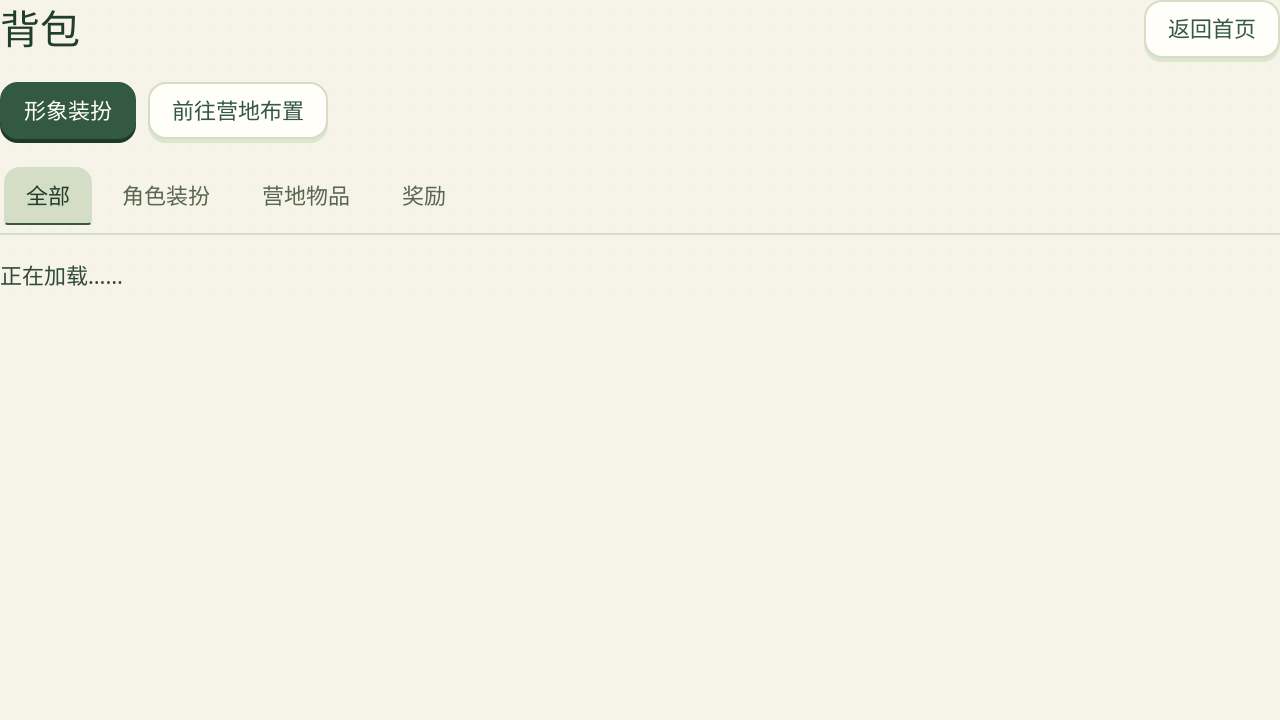
背包分类与奖励 › 兑现成功后留在背包原分类，刷新失败只重试读取
Click the tab "奖励" at (424, 196), box [380, 167, 468, 225]
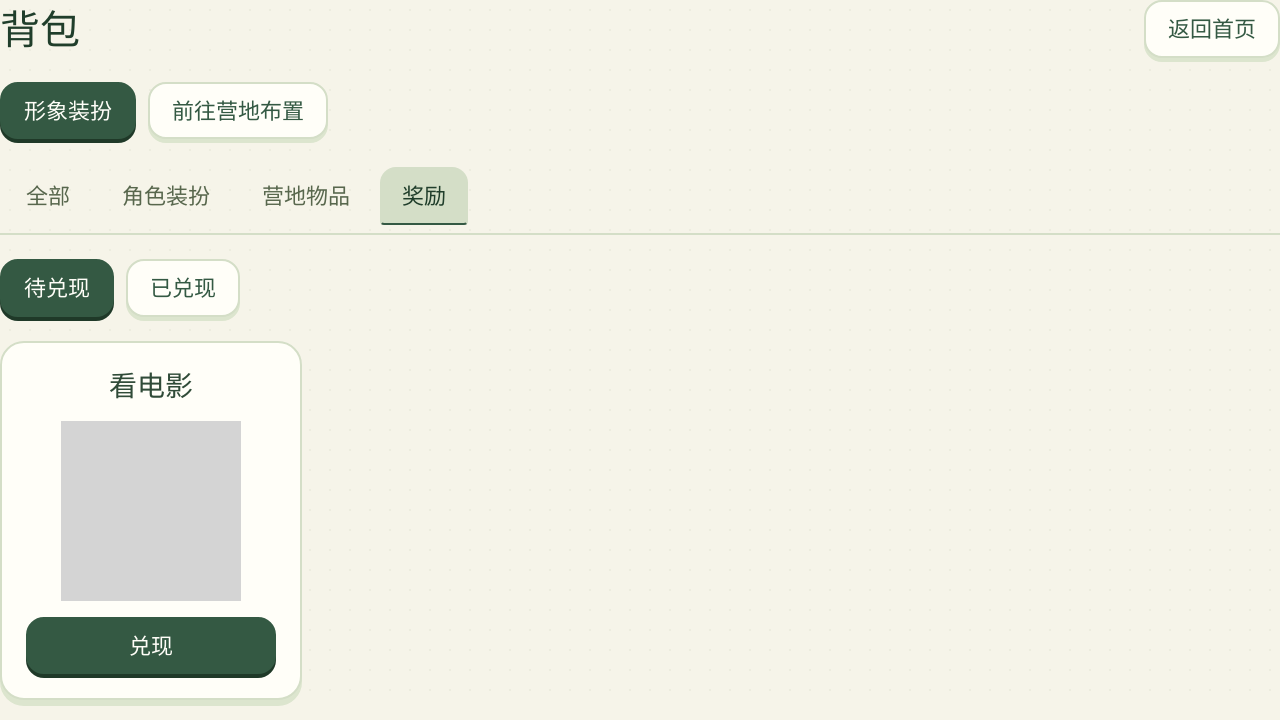
Click the button "兑现" at (151, 645), box [26, 616, 276, 674]
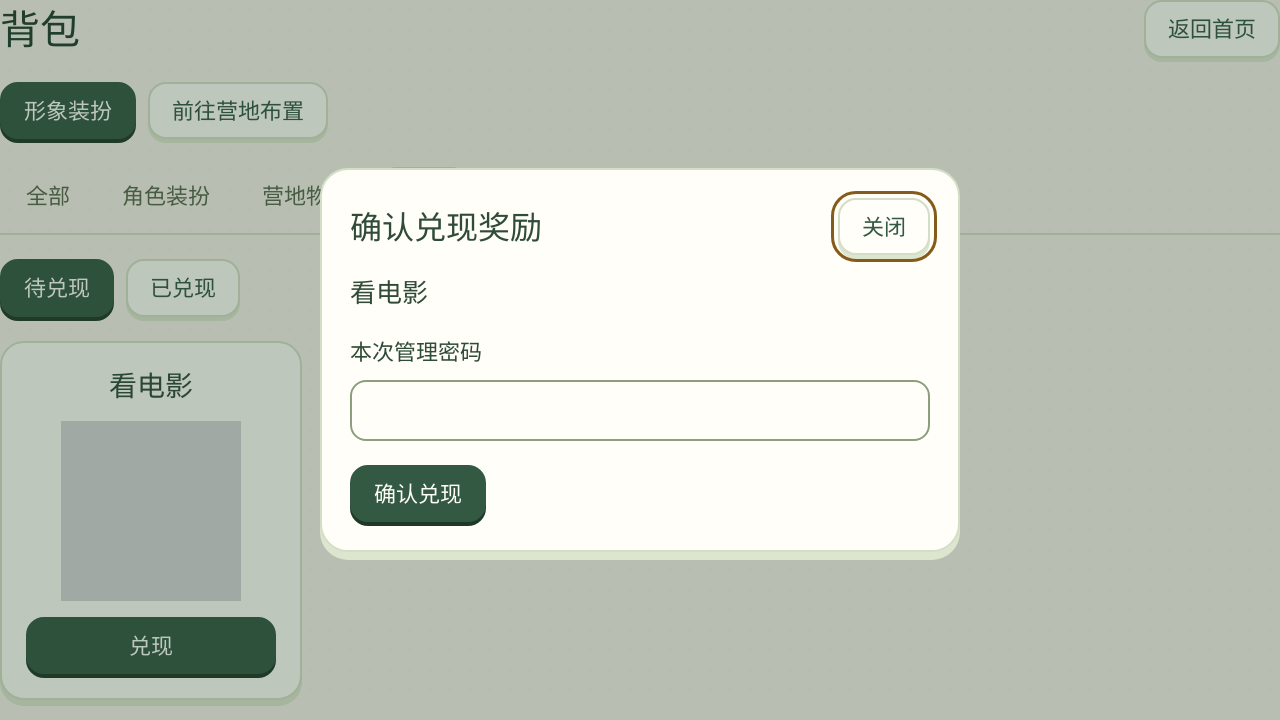
Type "secret" into the password field labelled "本次管理密码" at (640, 410), box [350, 380, 930, 440]
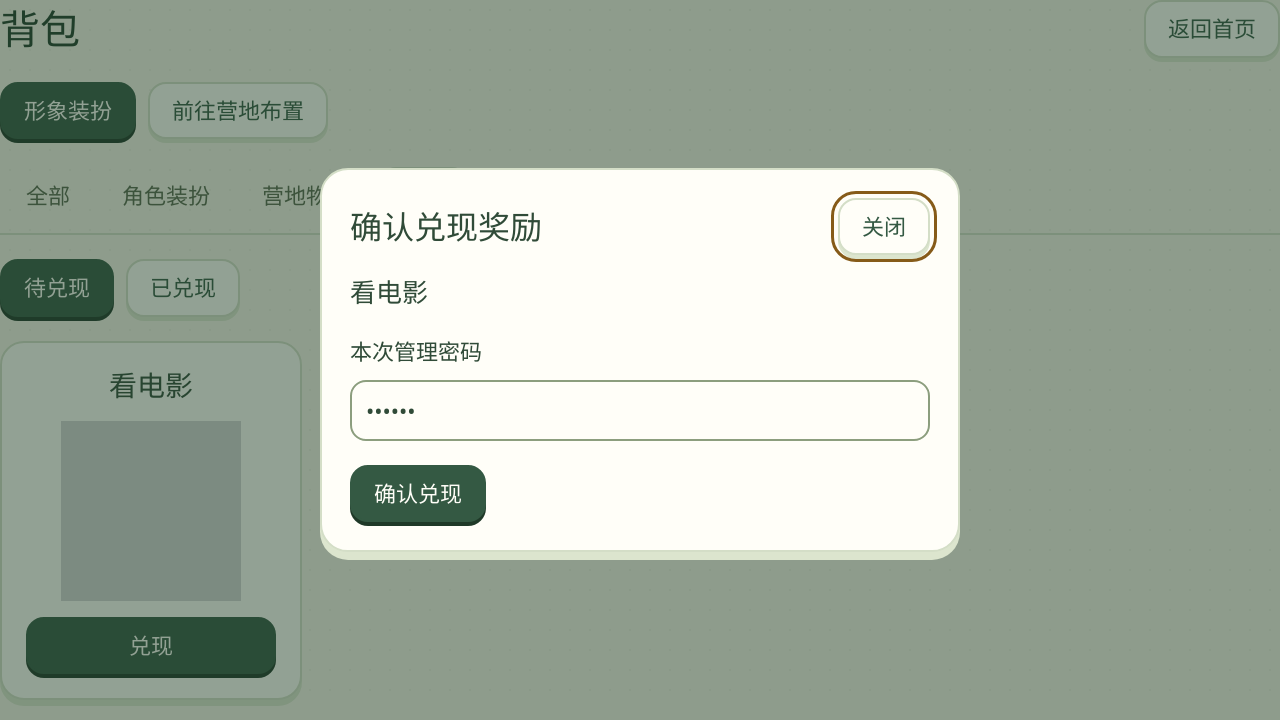
Click the button "确认兑现" at (418, 493), box [350, 464, 486, 522]
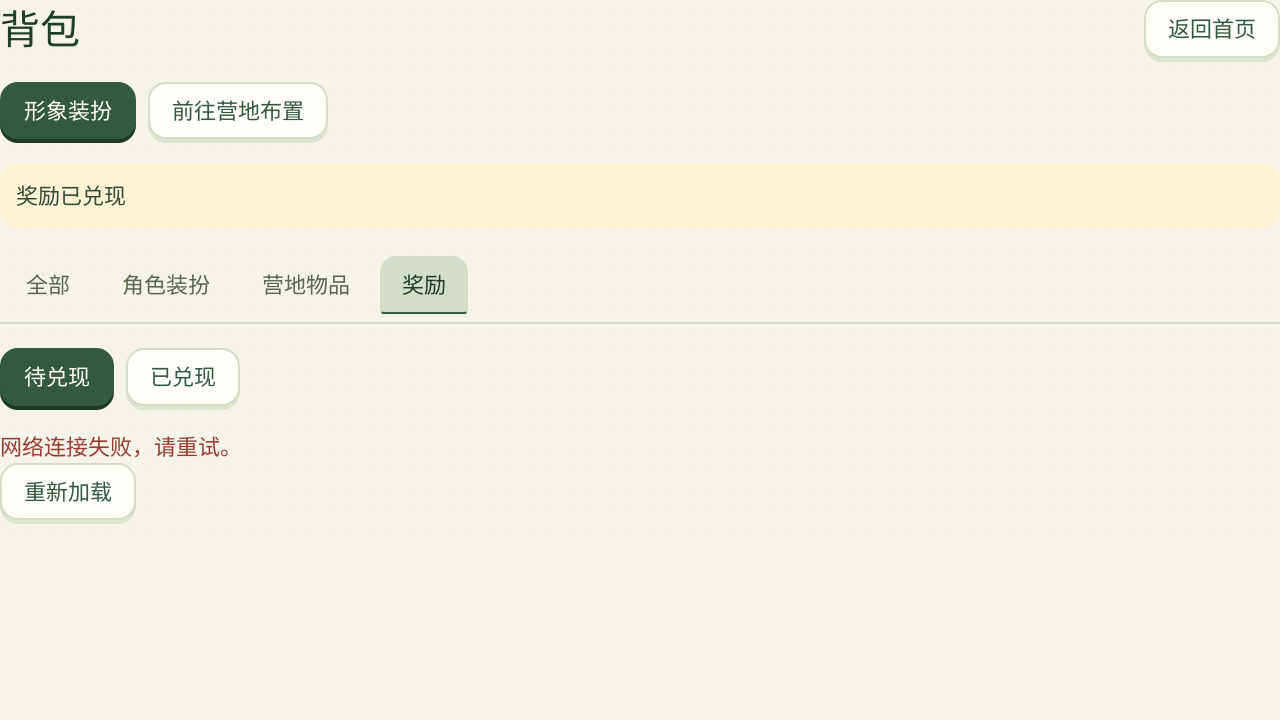
Expected: the text "奖励已兑现" is shown, [0, 163, 1279, 228]
Click the button "重新加载" at (68, 492), box [0, 463, 136, 520]
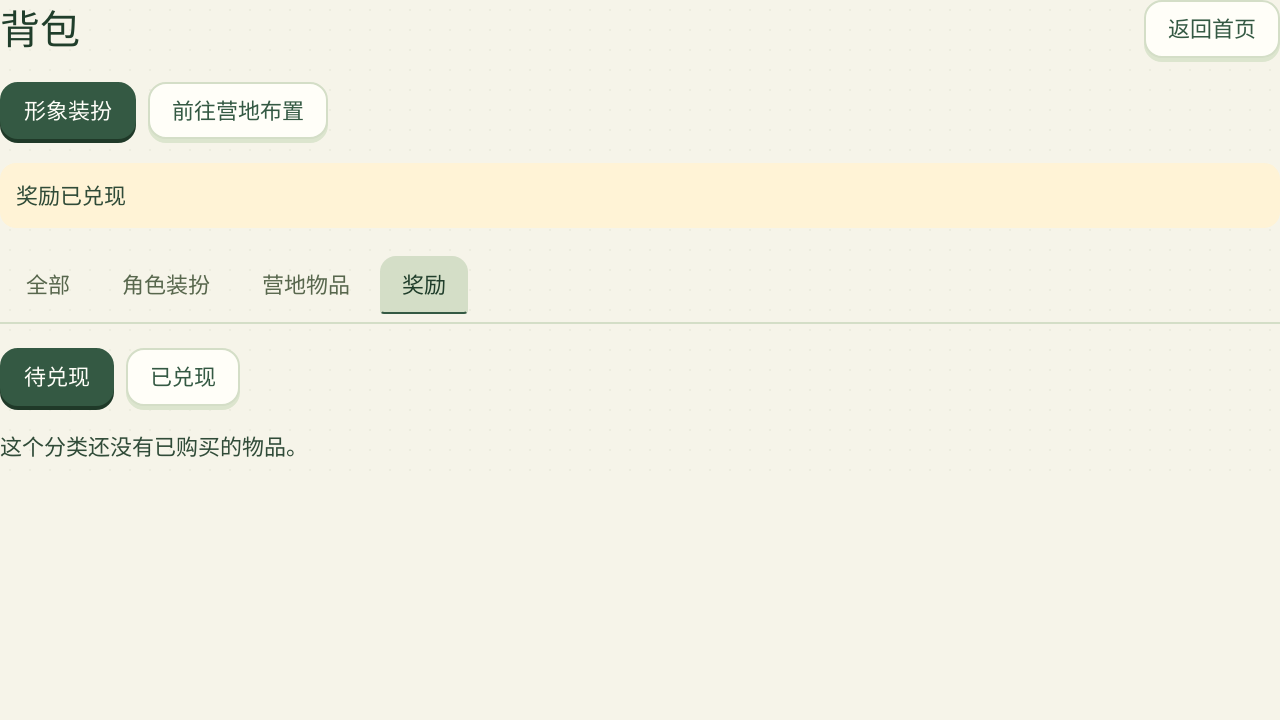
Expected: the text "这个分类还没有已购买的物品。" is shown, [0, 431, 308, 461]
